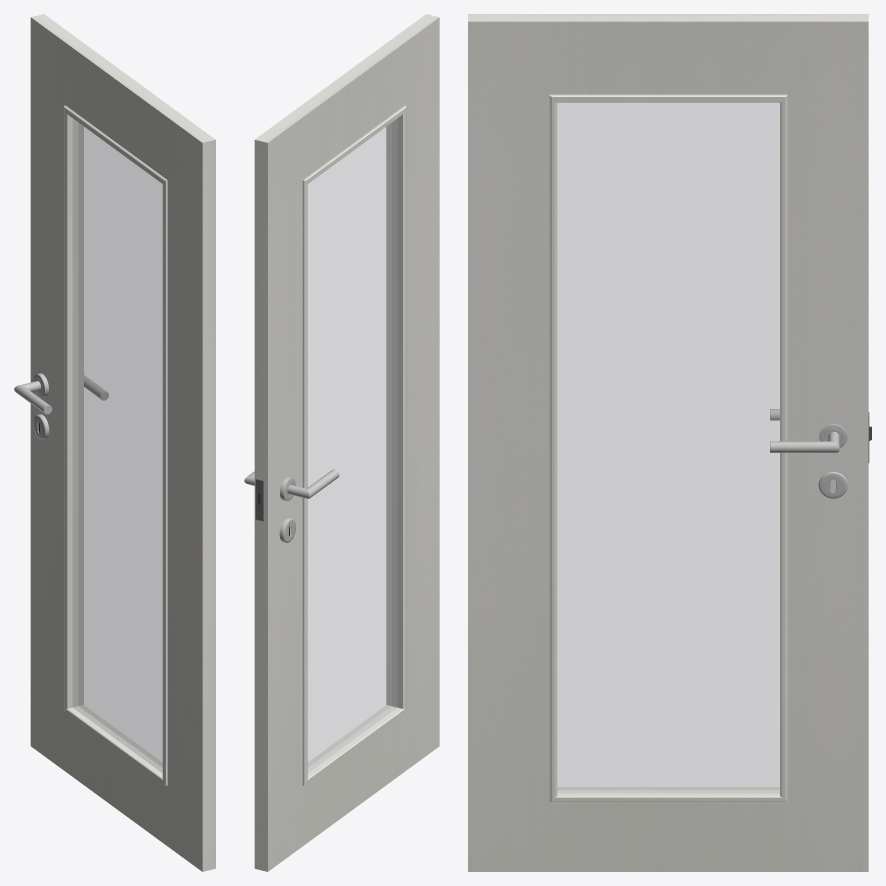
Rendered from door15.glb.
The picture shows the model from 3 angles, left to right: view 1: azimuth 30°, elevation 25°; view 2: azimuth 150°, elevation 25°; view 3: azimuth 270°, elevation 25°; orthographic projection. The views are drawn at different scales.
Visible parts, largest first — view 1: TB-LA1, Door_Handle_01; view 2: TB-LA1, Door_Handle_01; view 3: TB-LA1, Door_Handle_01.
Part boxes in pixels (<box>): TB-LA1: <box>30,14,215,871</box>; Door_Handle_01: <box>14,373,108,439</box>; TB-LA1: <box>254,14,439,871</box>; Door_Handle_01: <box>244,469,339,542</box>; TB-LA1: <box>468,14,871,871</box>; Door_Handle_01: <box>770,409,847,498</box>.
Bounding box in the file's own units: 0.1566 × 1.67 × 0.7188.
Materials: 6 (1 with a texture image).
